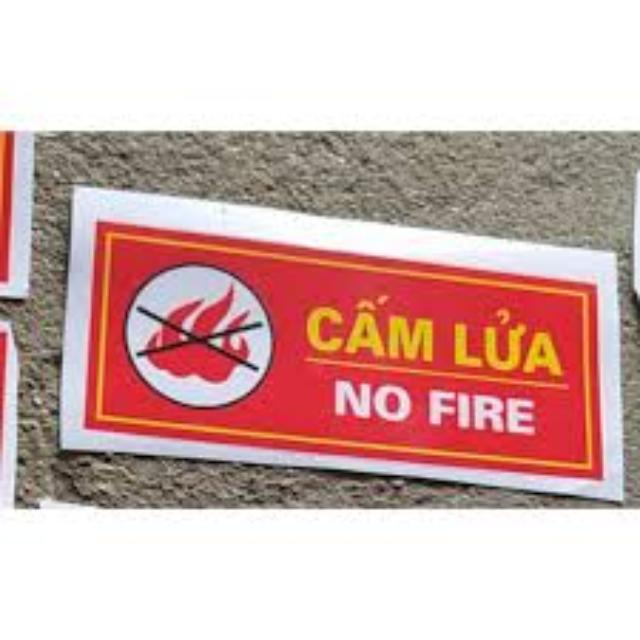cam lua: (63, 188, 620, 498)
